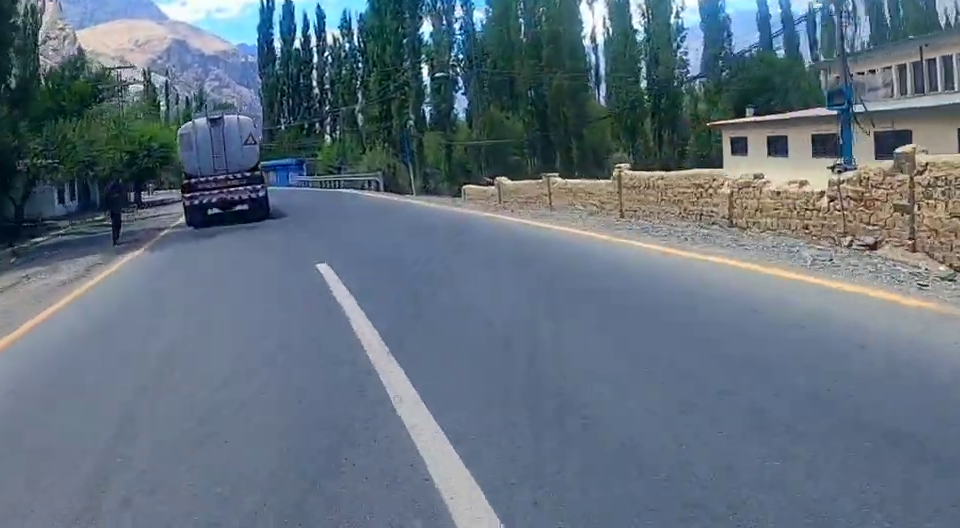left: (190, 239, 773, 520)
